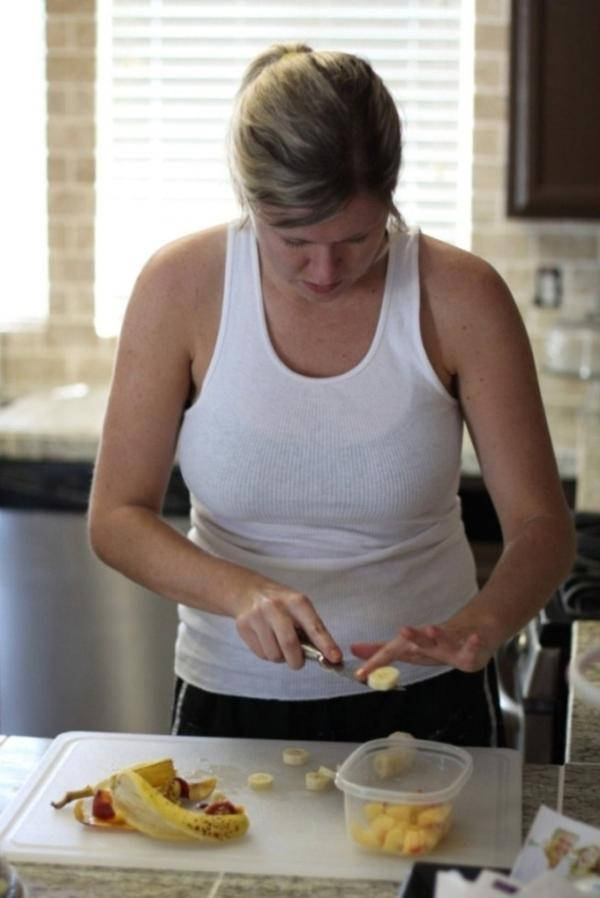person: (85, 41, 578, 750)
